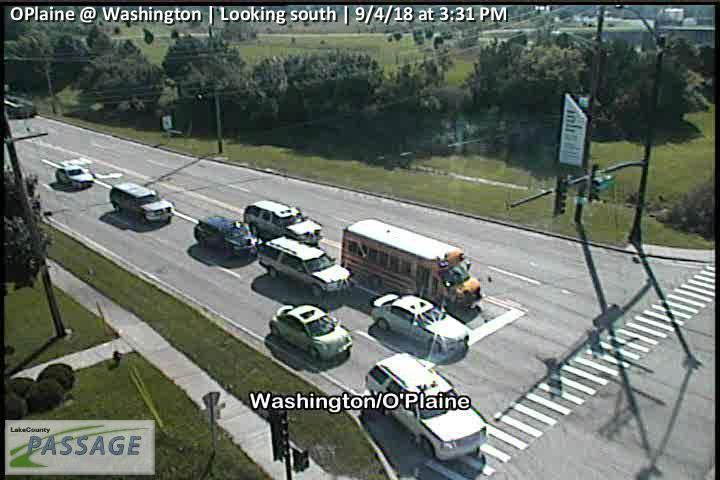Bus: (342, 218, 481, 310)
SUV: (369, 293, 470, 355), (261, 235, 351, 300), (110, 183, 173, 227), (193, 216, 257, 258), (244, 199, 303, 239), (57, 164, 94, 189)
Sedan: (366, 352, 487, 462), (269, 304, 353, 365)
